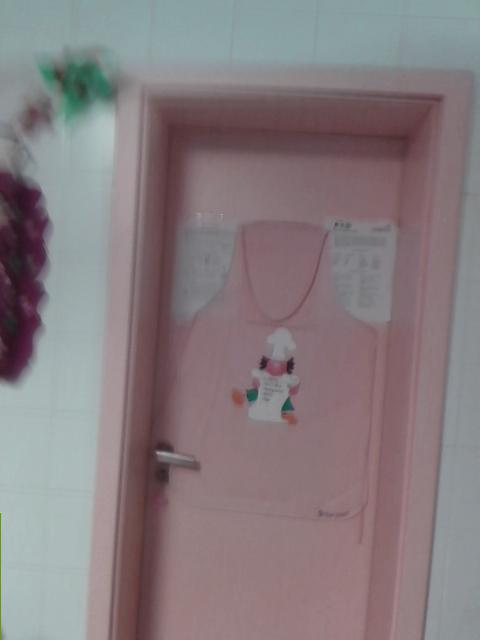closed_door: (85, 68, 469, 639)
